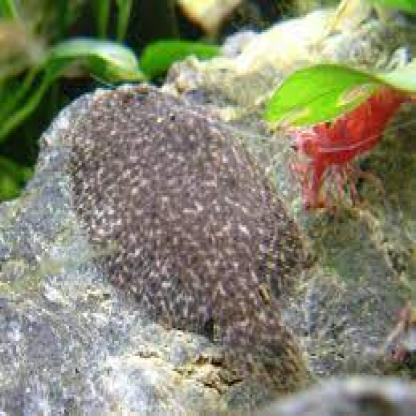flounder: (57, 77, 330, 408)
